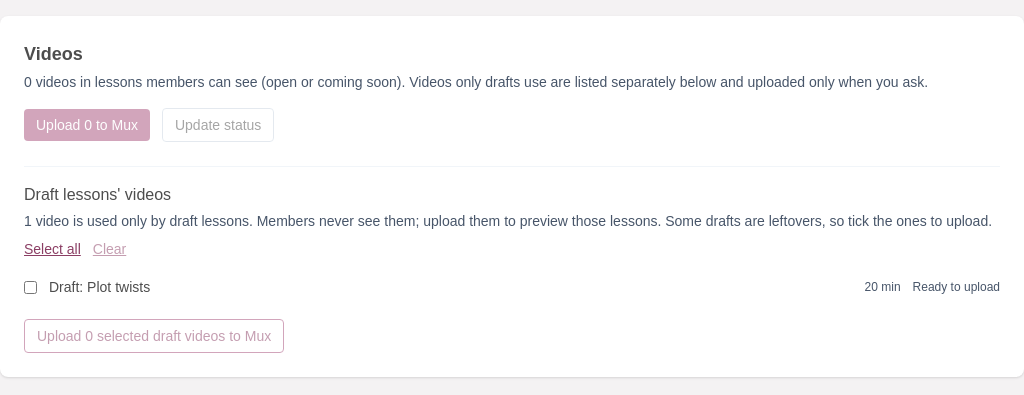
Scenario: CourseVideosPanel › draft lessons' videos › shows a course whose only videos are drafts' as having drafts, not as having none
The image size is (1024, 395).
Click the checkbox named "Upload Draft: Plot twists" at (30, 287), box [24,280,37,294]
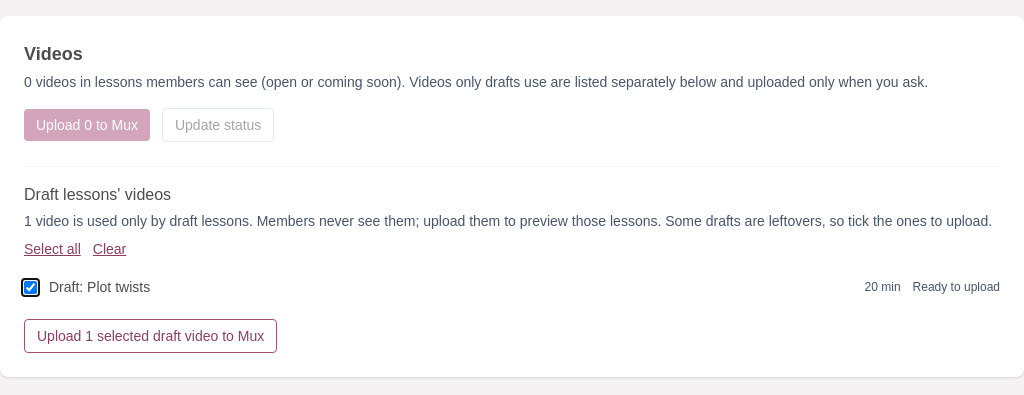
expect the button "Upload 1 selected draft video to Mux" is enabled: met, box [24,319,277,353]
